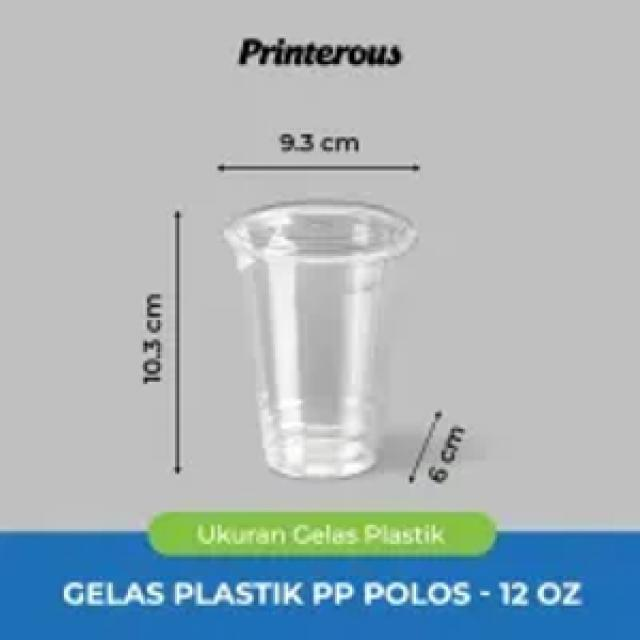plastic cup: (213, 190, 429, 491)
